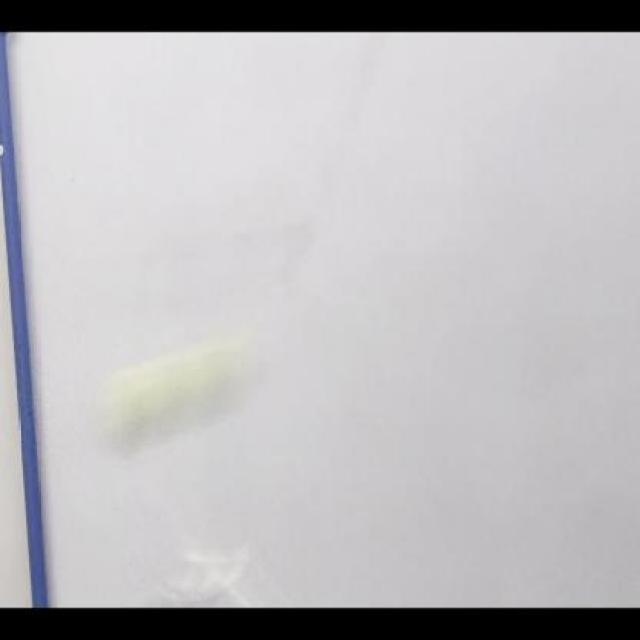baseball: (99, 338, 258, 436)
